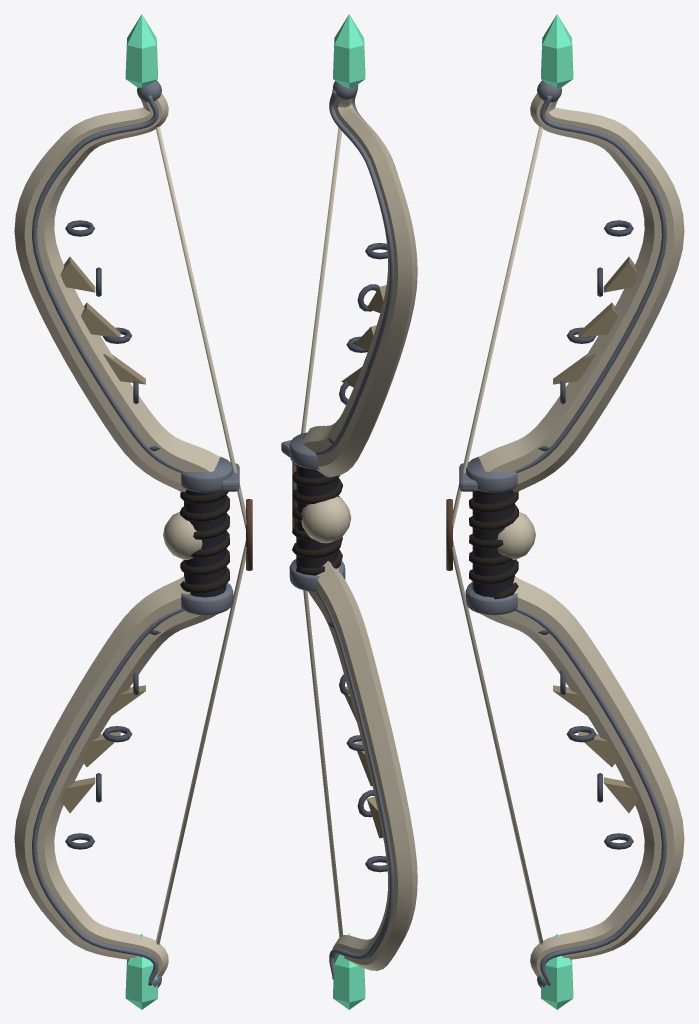
File: bow_wraith.fbx
3 renders of one model, left to right at view 1: azimuth 90°, elevation 25°; view 2: azimuth 210°, elevation 25°; view 3: azimuth 270°, elevation 25°, orthographic.
Parts seen in each view (by area): view 1: bow_wraith; view 2: bow_wraith; view 3: bow_wraith.
Boxes of the visible parts, x1,y1,x2,y2 form: bow_wraith: (14, 14, 252, 1009); bow_wraith: (281, 14, 417, 1009); bow_wraith: (446, 14, 684, 1009).
Bounding box in the file's own units: 0.066 × 1.3 × 0.2816.
